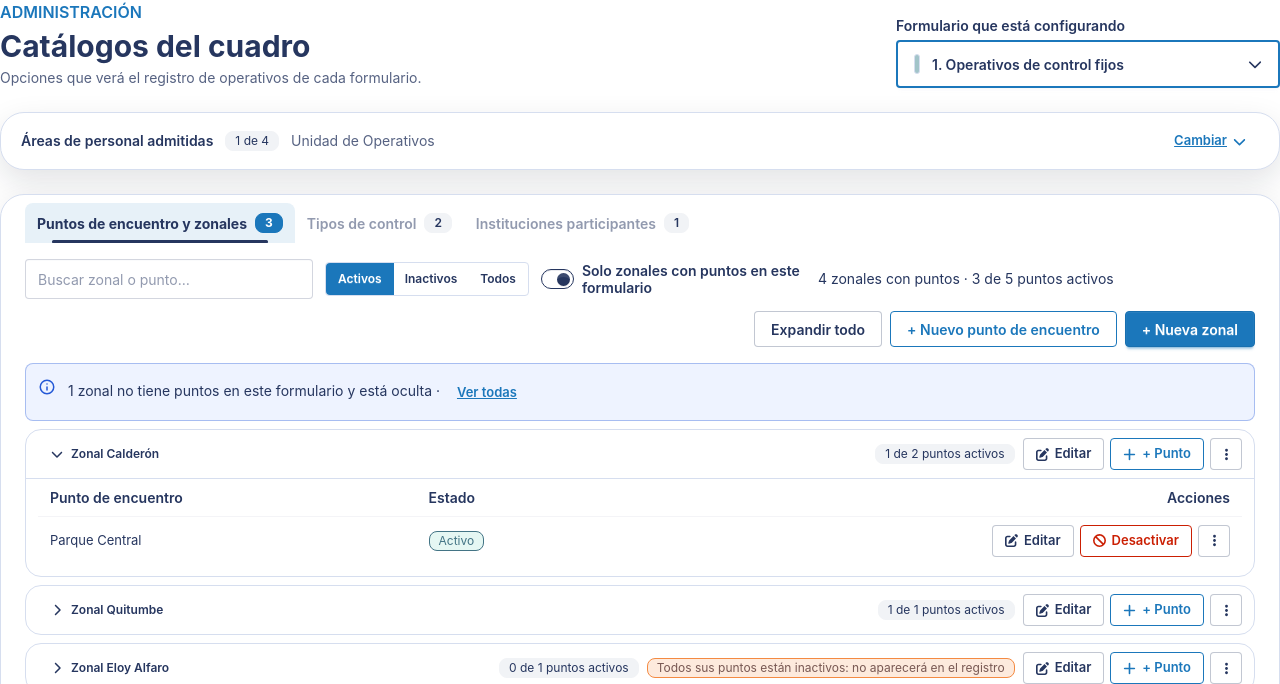
Test case: cabecera · formulario que se está configurando › con áreas sin guardar, pregunta antes de cambiar
expect the text "Zonal Calderón" is shown: met, box x1=71 y1=445 x2=159 y2=463
Click the button "Cambiar". click: [1210, 141]
box: x1=1161 y1=125 x2=1259 y2=157
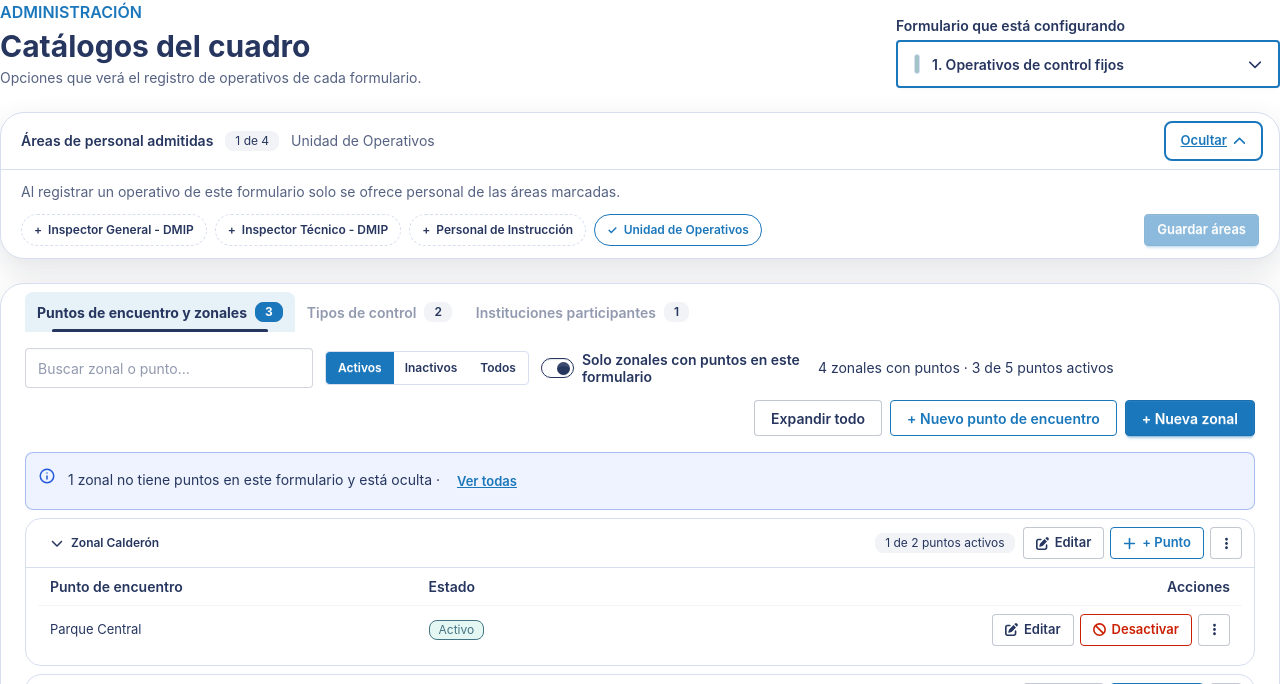
Click the button "+ Inspector General - DMIP". click: [114, 230]
box: x1=21 y1=214 x2=207 y2=246
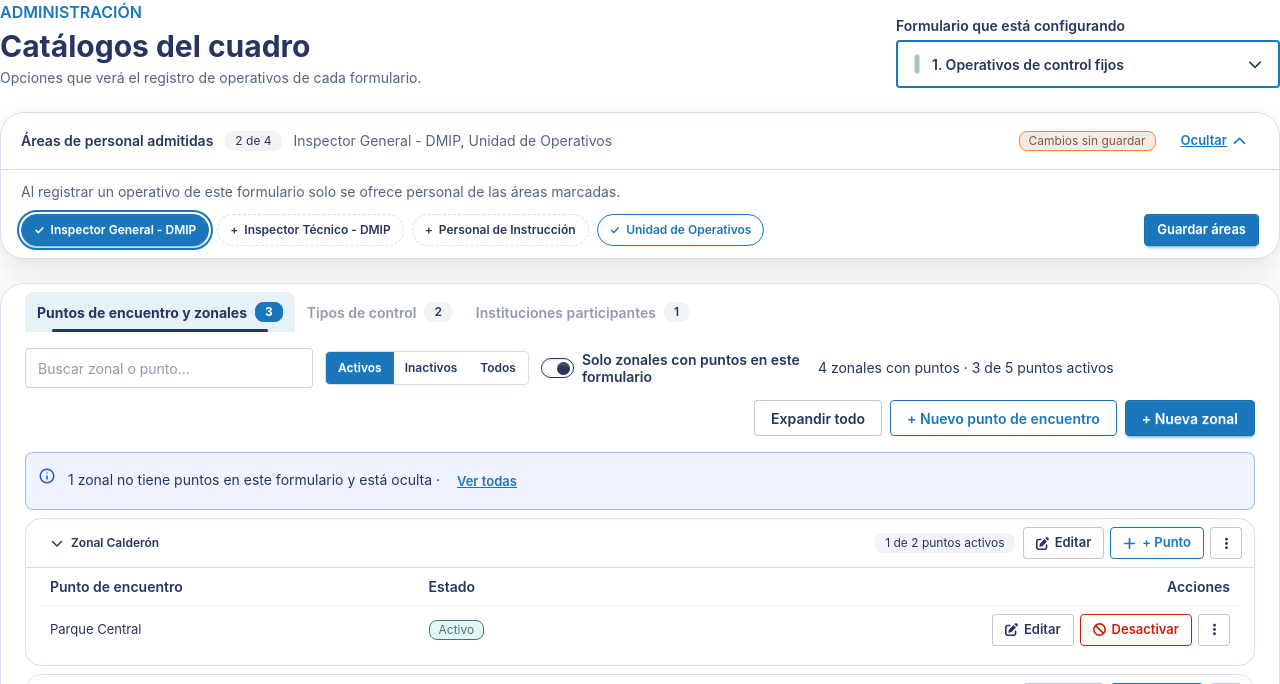
Click the button "1. Operativos de control fijos". click: [1088, 64]
box: x1=896 y1=40 x2=1279 y2=88
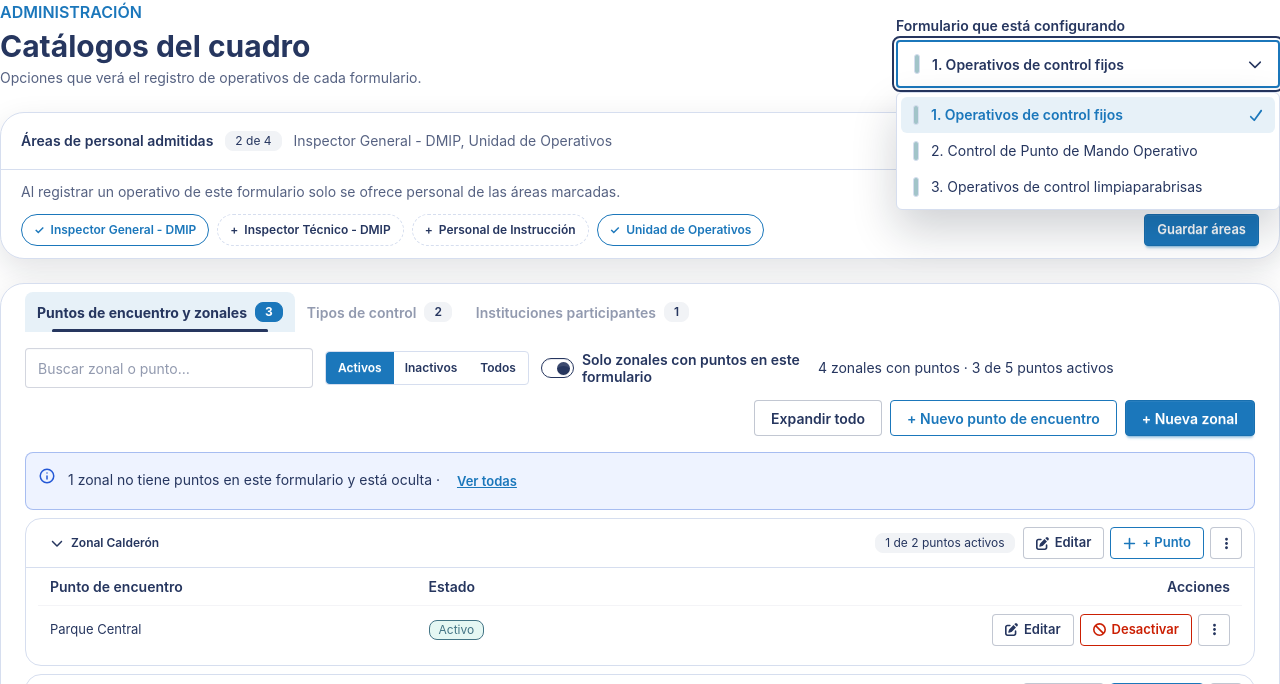
Click the option "2. Control de Punto de Mando Operativo". click: [1055, 151]
box: x1=913 y1=141 x2=1198 y2=161
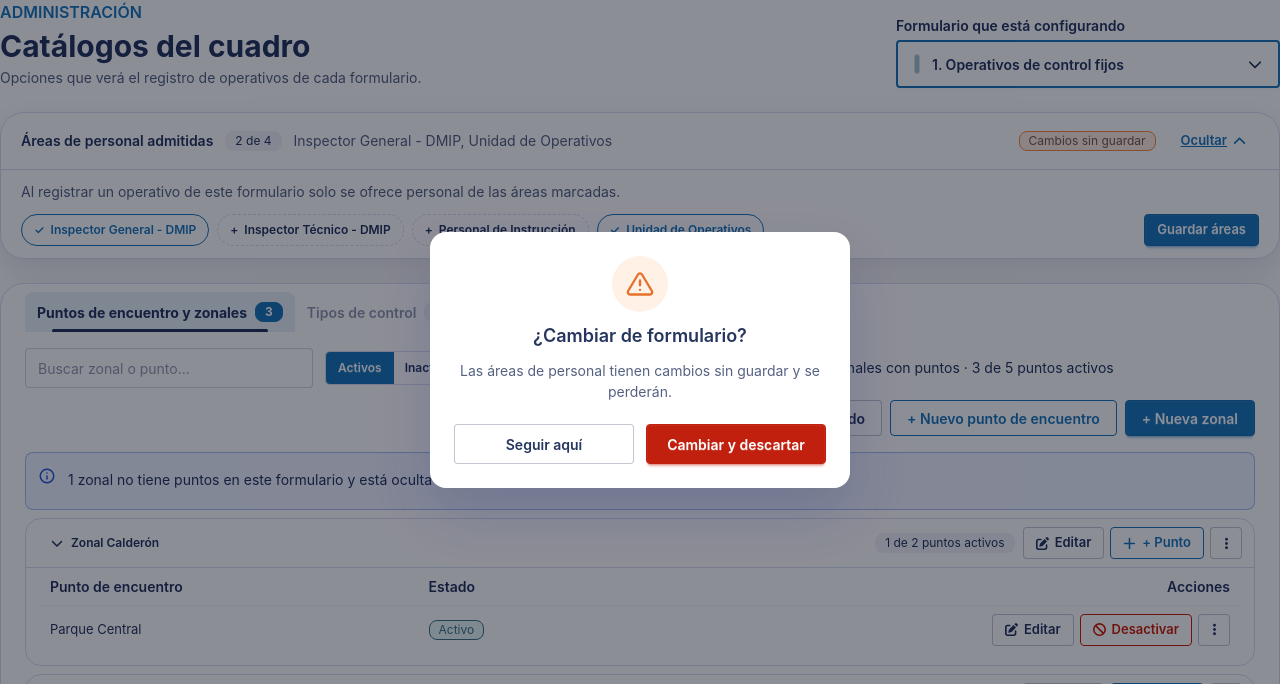
expect the heading "¿Cambiar de formulario?" is shown: met, box x1=533 y1=322 x2=747 y2=350
Click the button "Cambiar y descartar". click: [736, 444]
box: x1=646 y1=424 x2=826 y2=464
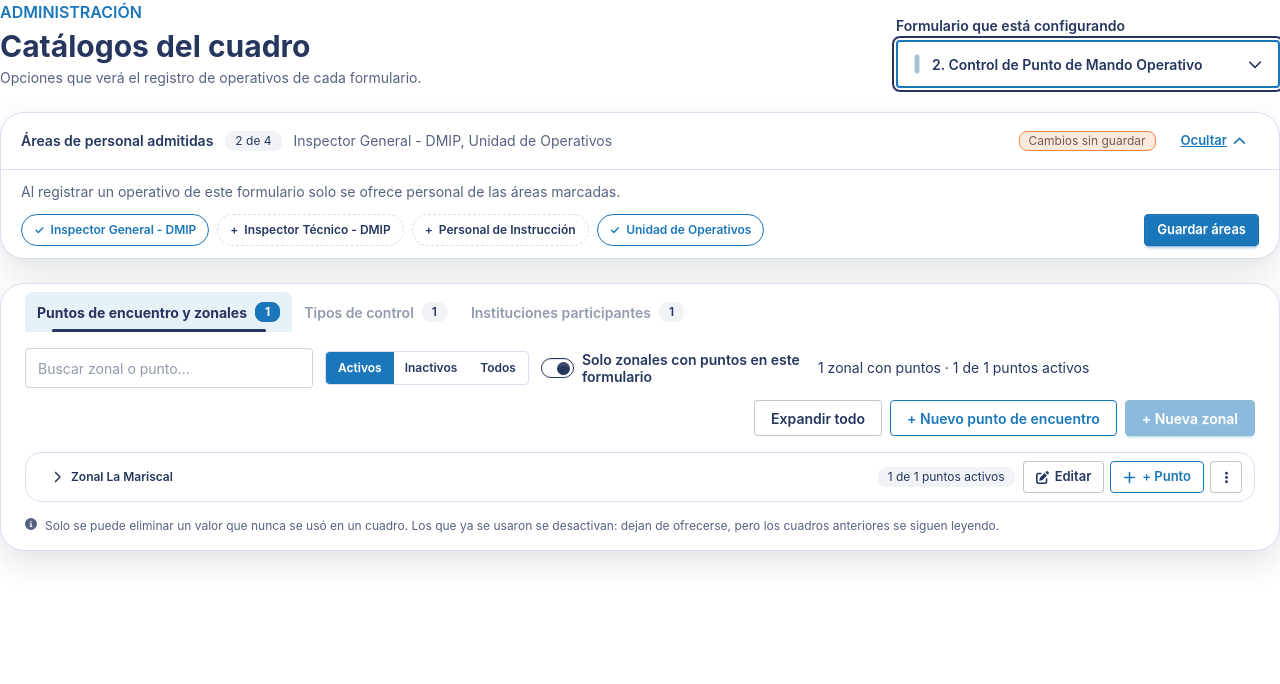
expect the text "Zonal La Mariscal" is shown: met, box x1=71 y1=468 x2=173 y2=486
